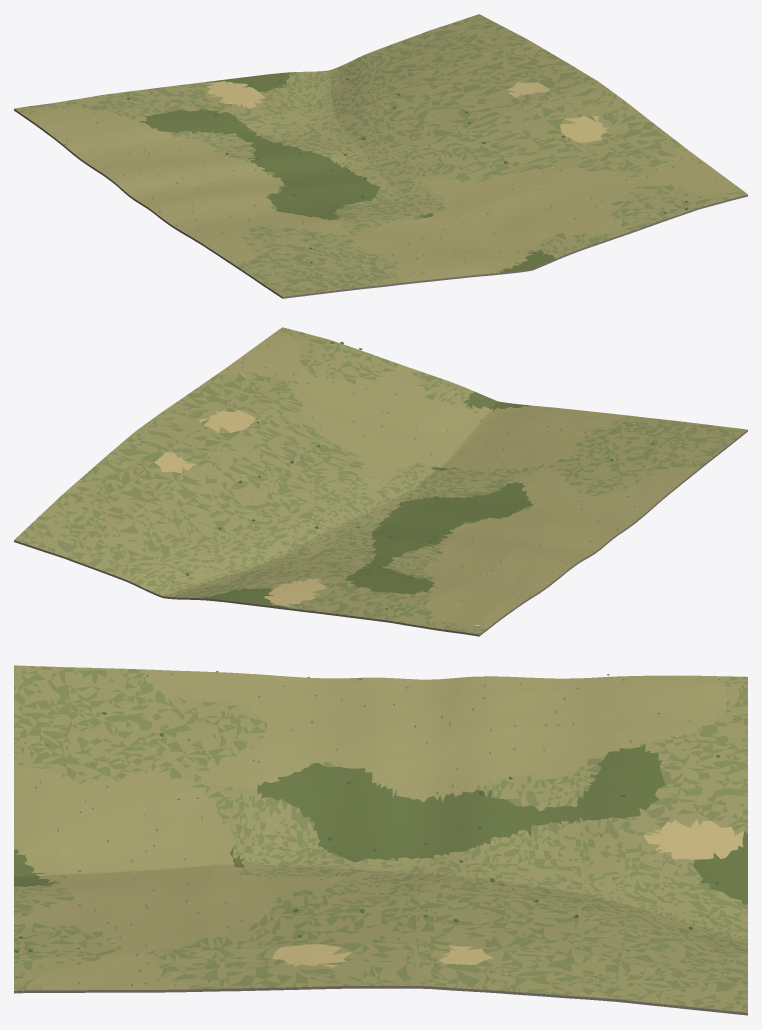
The model's file is parca_+2_+1-yakin.glb.
3 renders of one model, top to bottom at view 1: azimuth 30°, elevation 25°; view 2: azimuth 150°, elevation 25°; view 3: azimuth 270°, elevation 25°, orthographic. The views are drawn at different scales.
Parts seen in each view (by area): view 1: parca_+2_+1_arazi, parca_+2_+1_bitkiler; view 2: parca_+2_+1_arazi, parca_+2_+1_bitkiler; view 3: parca_+2_+1_arazi, parca_+2_+1_bitkiler.
Boxes of the visible parts, box(x1,y1,x2,y2) form: parca_+2_+1_arazi: box(14, 14, 747, 298); parca_+2_+1_bitkiler: box(29, 41, 715, 286); parca_+2_+1_arazi: box(14, 327, 747, 636); parca_+2_+1_bitkiler: box(68, 341, 690, 629); parca_+2_+1_arazi: box(14, 665, 747, 1015); parca_+2_+1_bitkiler: box(14, 671, 743, 1001).
Bounding box in the file's own units: 1002 × 101 × 1000.
